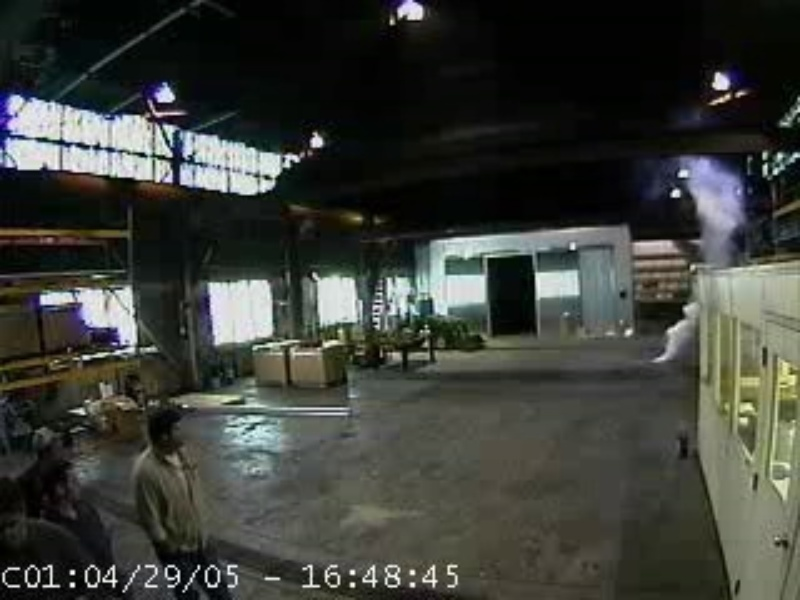smoke: (675, 153, 742, 268)
